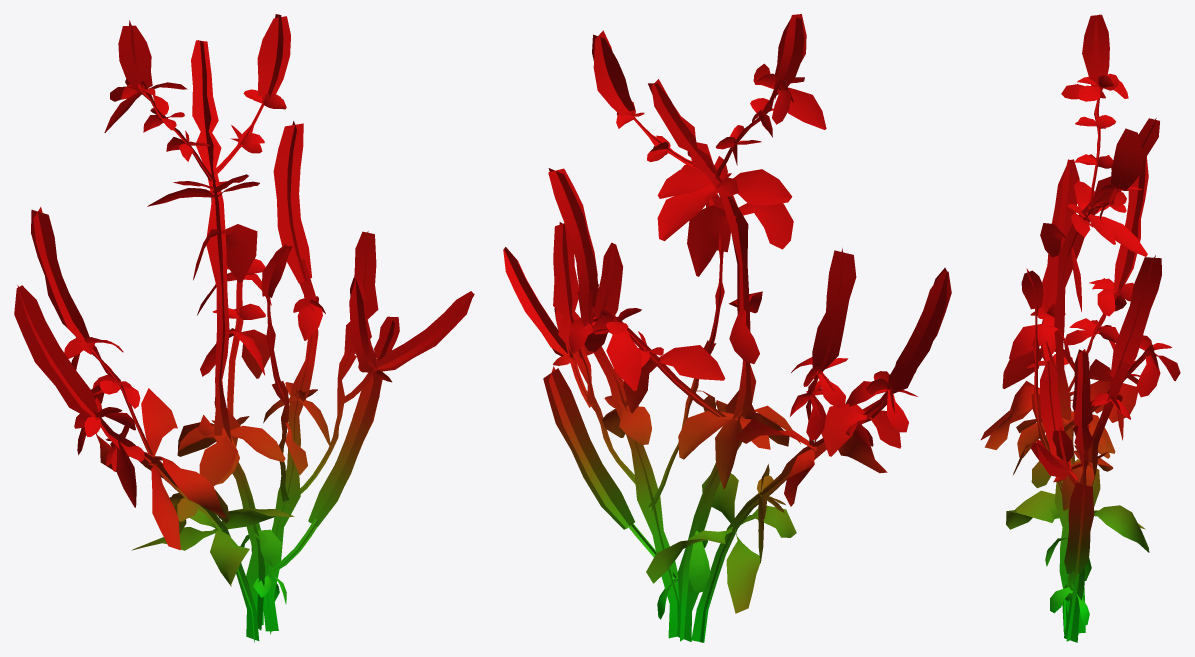
File: Var1_LOD0.fbx
3 renders of one model, left to right at view 1: azimuth 30°, elevation 25°; view 2: azimuth 150°, elevation 25°; view 3: azimuth 270°, elevation 25°, orthographic. The views are drawn at different scales.
Visible parts, largest first — view 1: _0e79_Var1_LOD0; view 2: _0e79_Var1_LOD0; view 3: _0e79_Var1_LOD0.
Boxes of the visible parts, left/top/right/bottom form: _0e79_Var1_LOD0: left=14, top=14, right=474, bottom=642; _0e79_Var1_LOD0: left=503, top=14, right=951, bottom=642; _0e79_Var1_LOD0: left=981, top=14, right=1180, bottom=642.
Bounding box in the file's own units: 64.86 × 89.42 × 28.27.
